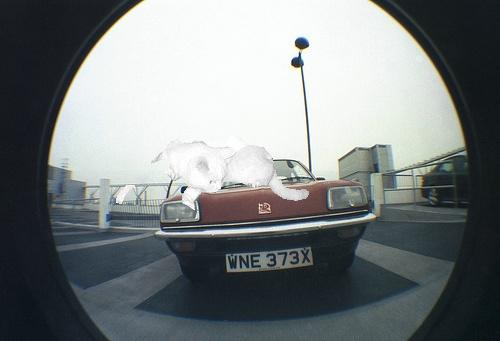tampered: (117, 137, 309, 210)
